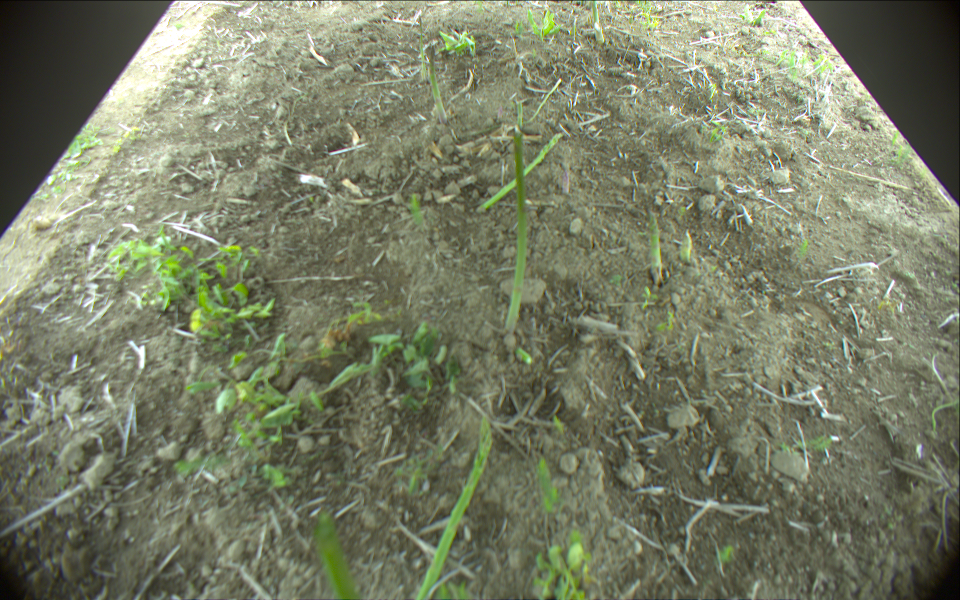aspa: (416, 413, 496, 600), (481, 131, 563, 213), (504, 129, 529, 334), (315, 511, 360, 600), (429, 48, 449, 123), (646, 211, 662, 282), (418, 15, 427, 79), (591, 1, 605, 41), (681, 230, 690, 263), (560, 166, 570, 194), (570, 18, 579, 41)
